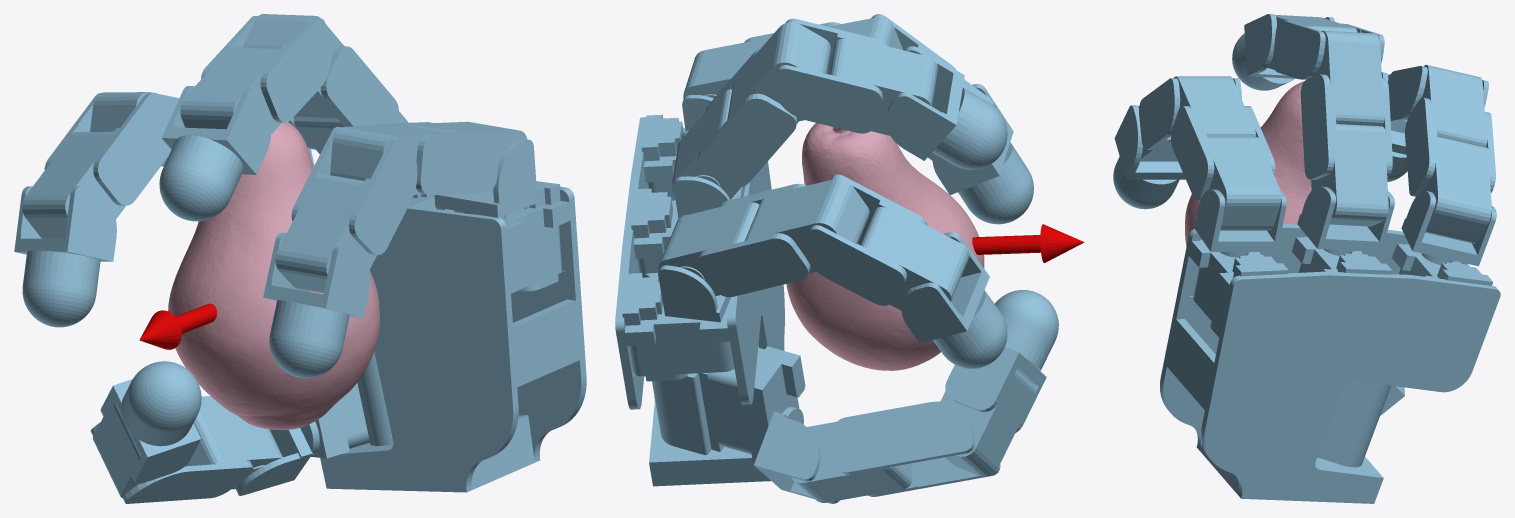
3 views of the same model, side by side, from view 1: azimuth 30°, elevation 25°; view 2: azimuth 150°, elevation 25°; view 3: azimuth 270°, elevation 25° (orthographic). The views are drawn at different scales.
Visible parts, largest first — view 1: world, pear.stl; view 2: world, pear.stl; view 3: world, pear.stl.
Part boxes in pixels (x1,y1,x2,y2): world: (14,14,586,503); pear.stl: (168,122,379,429); world: (615,14,1084,503); pear.stl: (786,123,984,370); world: (1113,14,1500,503); pear.stl: (1185,81,1311,246).
Bounding box in the file's own units: 0.172 × 0.1745 × 0.1446.
